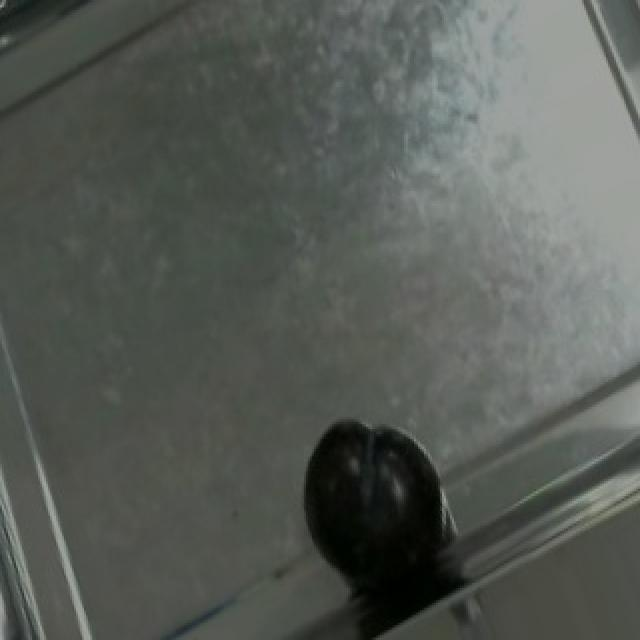Fruit: (282, 407, 470, 620)
